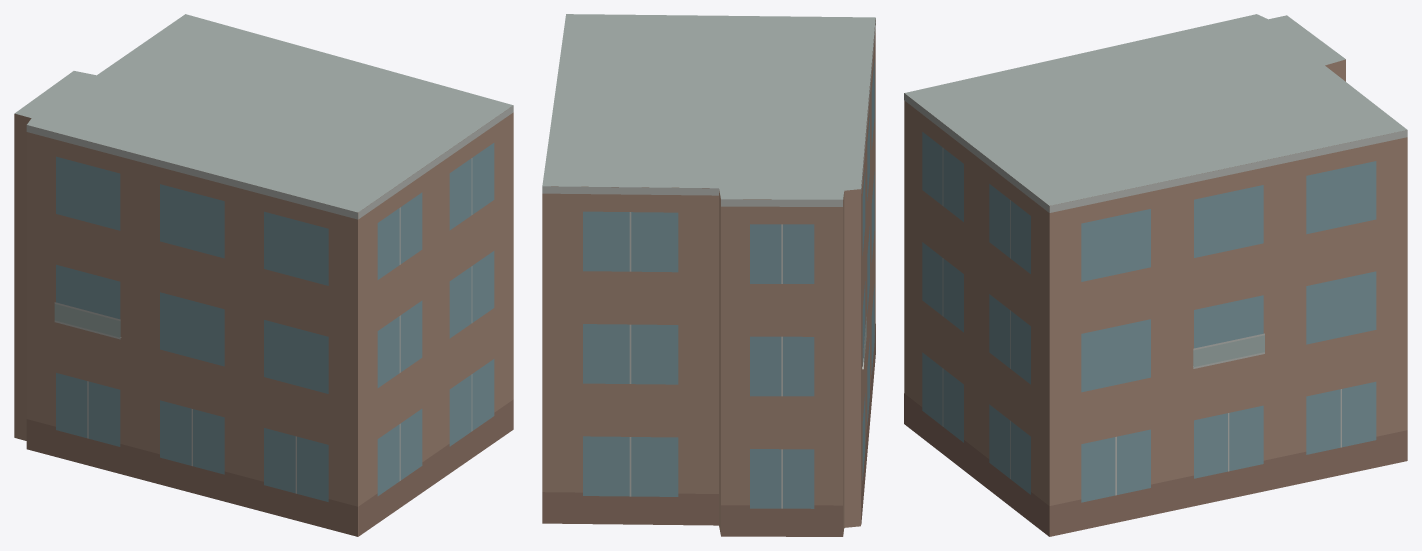
The model's file is survey-upis-32836161.glb.
3 renders of one model, left to right at view 1: azimuth 30°, elevation 25°; view 2: azimuth 150°, elevation 25°; view 3: azimuth 270°, elevation 25°, orthographic. The views are drawn at different scales.
Visible parts, largest first — view 1: survey-upis-32836161.tmp; view 2: survey-upis-32836161.tmp; view 3: survey-upis-32836161.tmp.
Part boxes in pixels (x1=…): survey-upis-32836161.tmp: x1=14, y1=14, x2=513, y2=536; survey-upis-32836161.tmp: x1=542, y1=14, x2=875, y2=536; survey-upis-32836161.tmp: x1=904, y1=14, x2=1407, y2=536.
Bounding box in the file's own units: 13.93 × 11.2 × 15.45.
